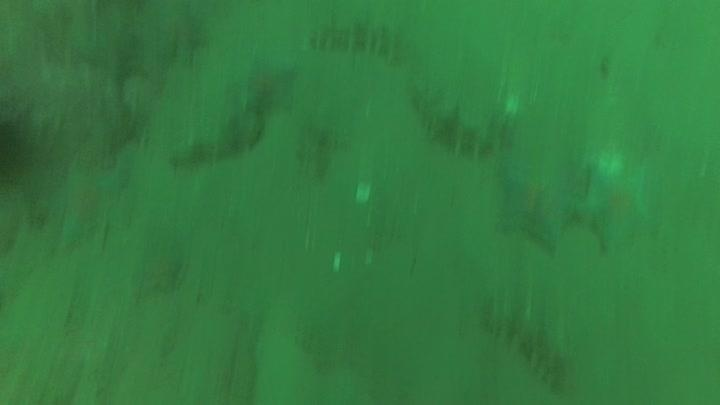echinus: (1, 112, 36, 187)
holothurian: (477, 289, 577, 393), (407, 81, 517, 160), (168, 108, 266, 169), (302, 15, 410, 64)
starfish: (41, 142, 145, 251), (571, 154, 662, 256), (492, 152, 583, 254), (68, 11, 163, 92), (146, 7, 229, 72), (231, 54, 300, 118)
